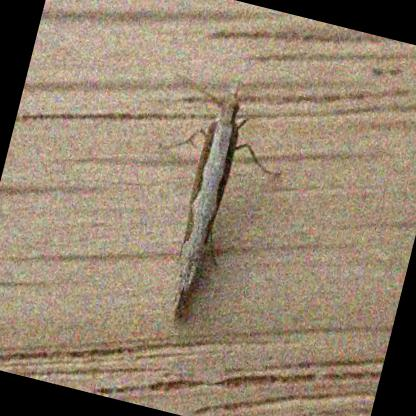plutella: (154, 93, 286, 331)
